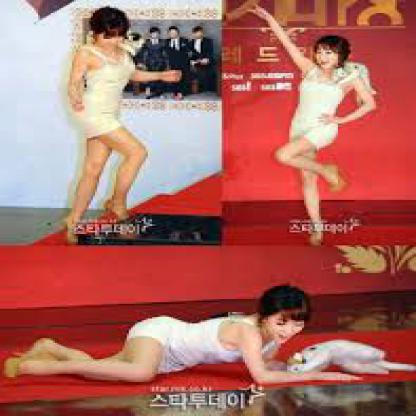Fall_Down: (6, 287, 365, 384)
